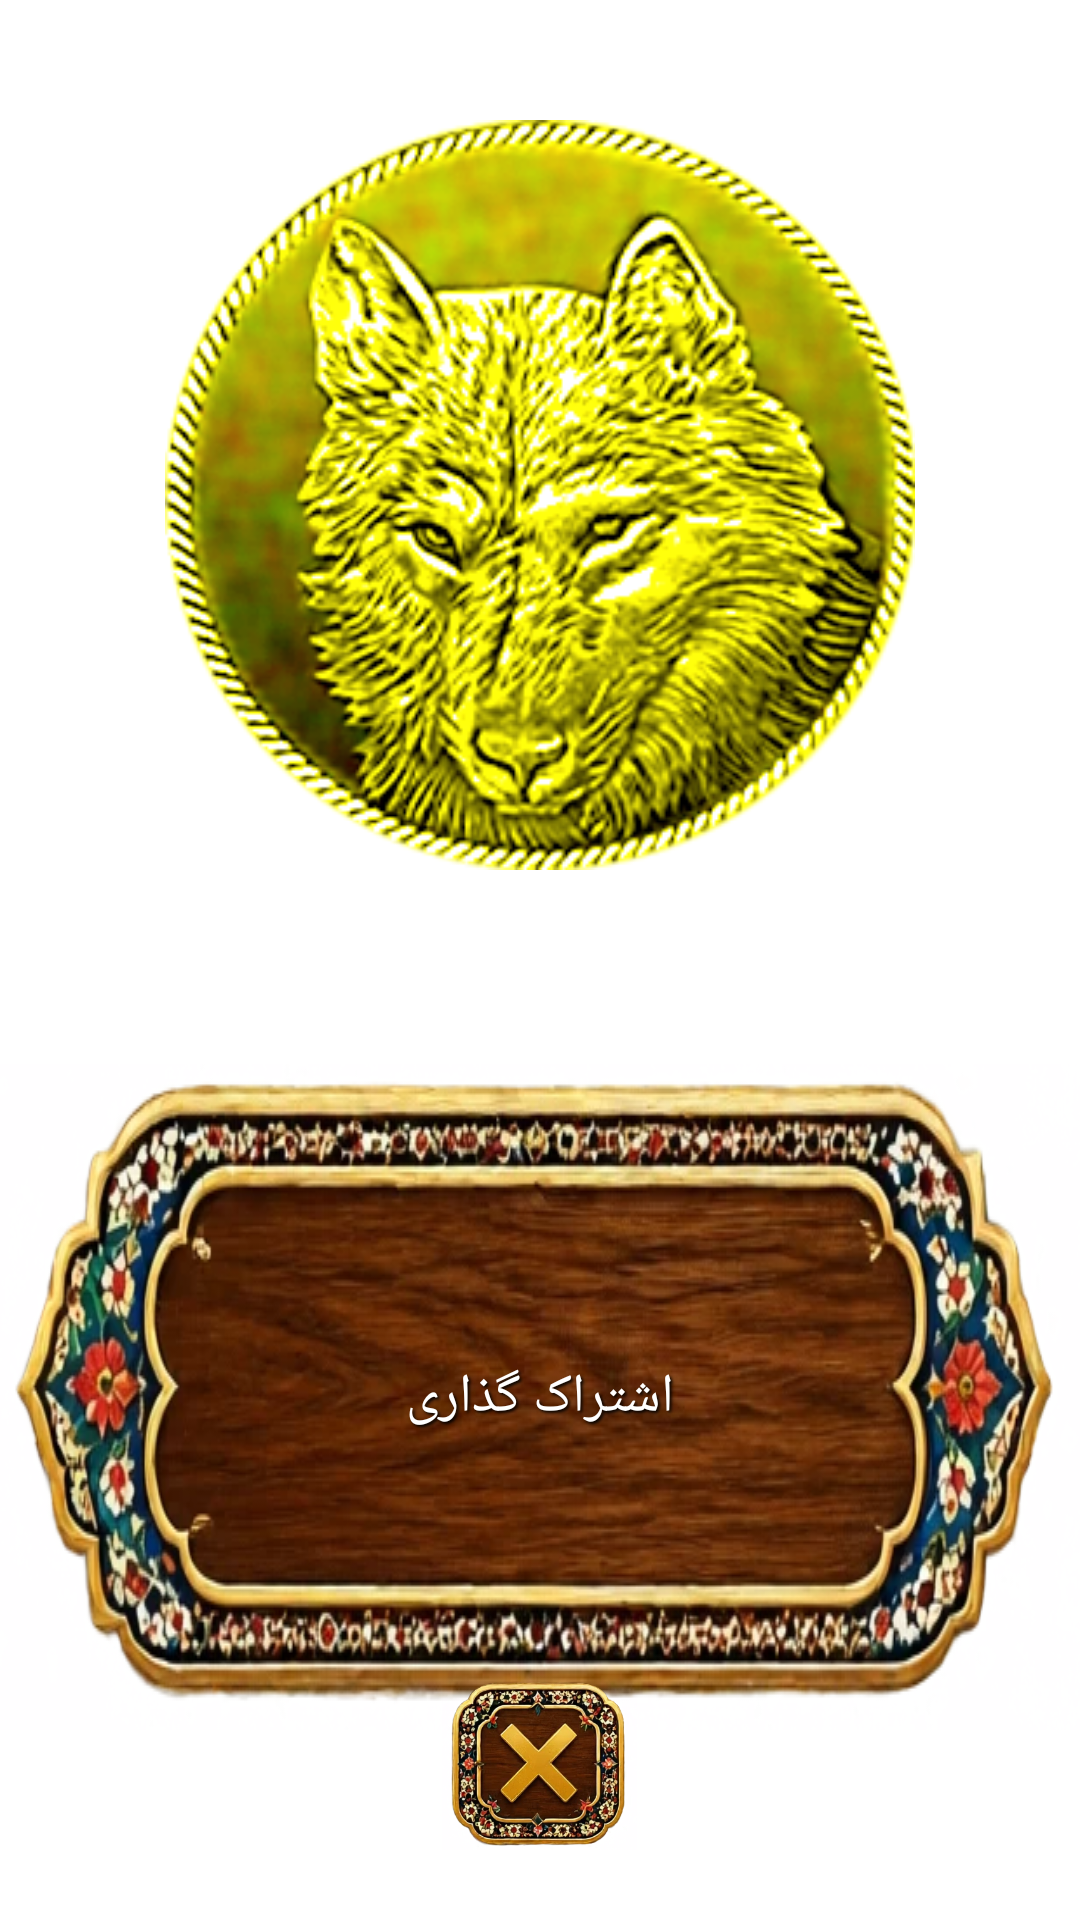

Where to tap for icons on this 1080px×1920px app screen, as (x=x, y=y):
close: (x=539, y=1755)
